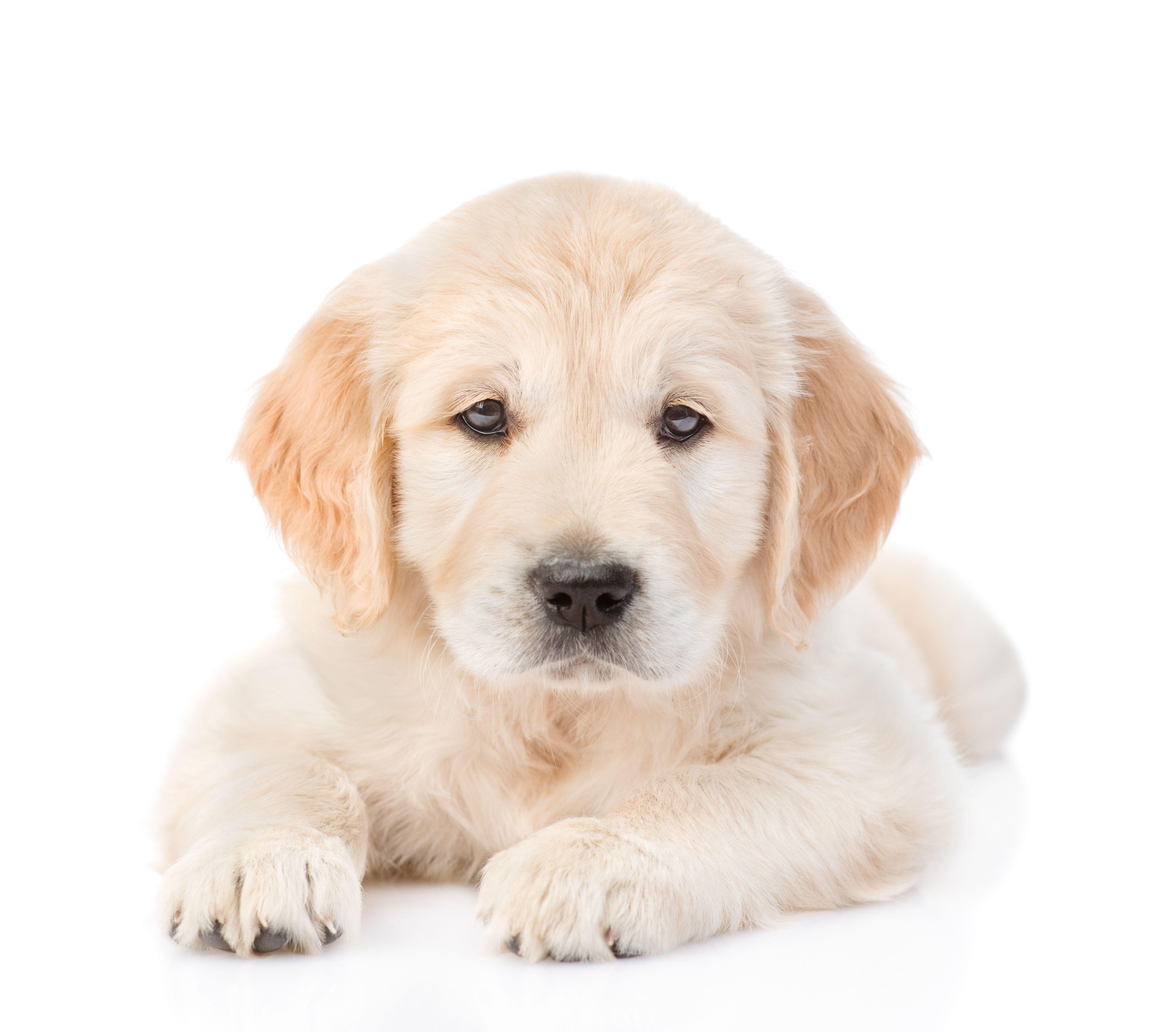puppy-dog: (146, 163, 1036, 969)
